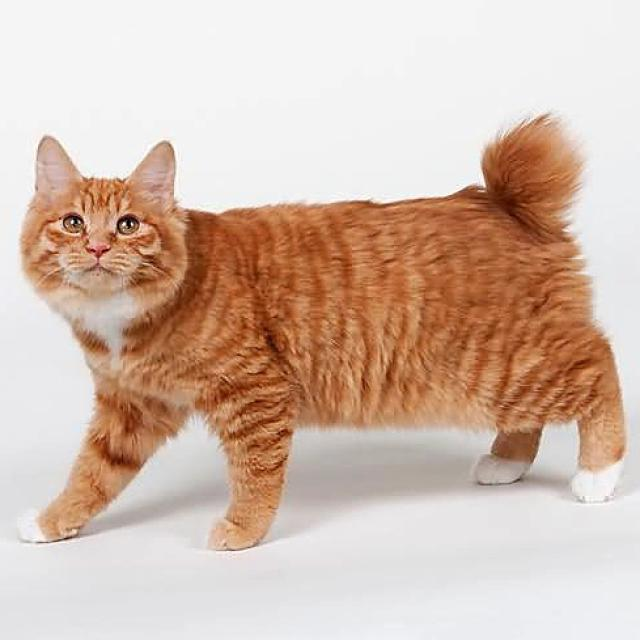American Bobtail: (8, 112, 633, 559)
